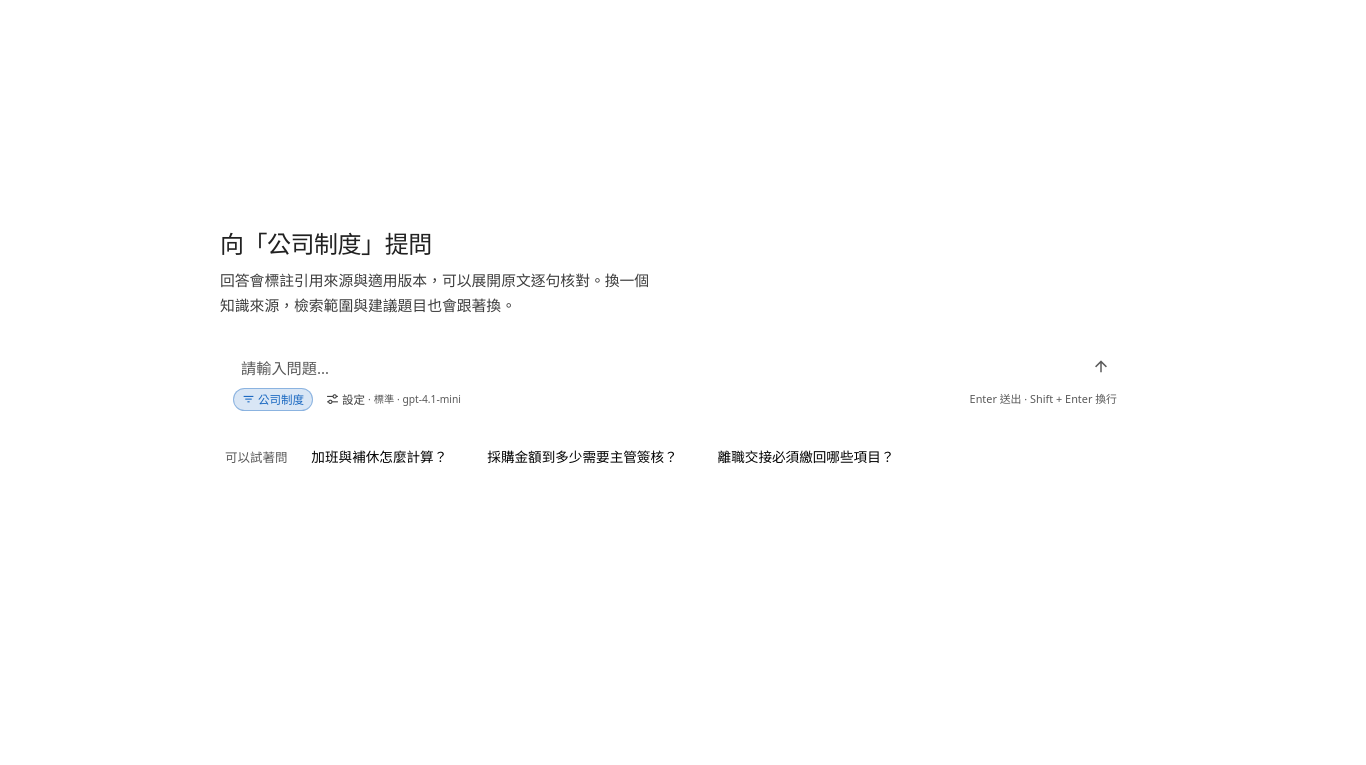
Test: AskView knowledge source dialog › should reject an empty notebook name instead of creating one
The width and height of the screenshot is (1366, 765).
What coordinates should you click on to do the following:
click the button with id "knowledge-source-trigger"
I would click on:
 (273, 400)
Its box is [233,388,313,411].
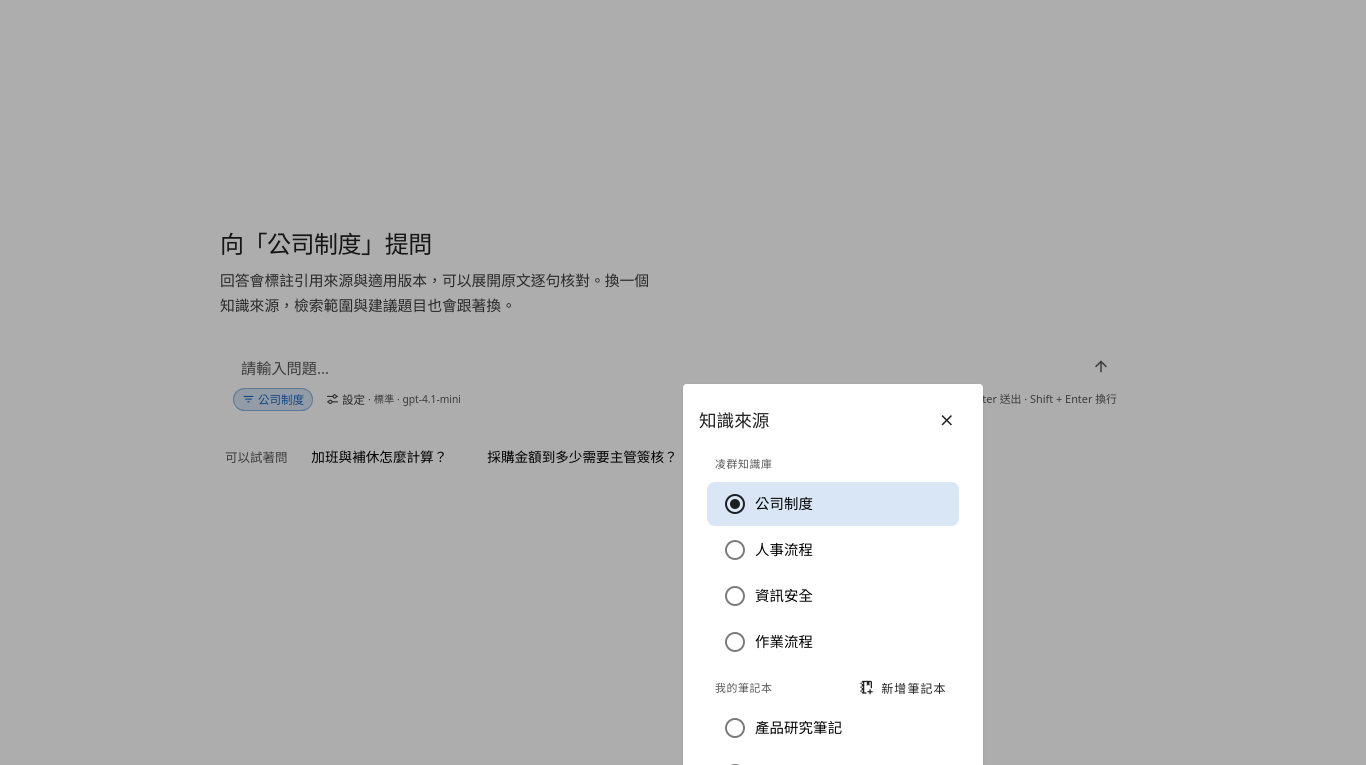
What coordinates should you click on to do the following:
click the button with test id "open-create-notebook-form"
I would click on:
 (904, 688)
Its box is [850,678,959,698].
(page scrolled)
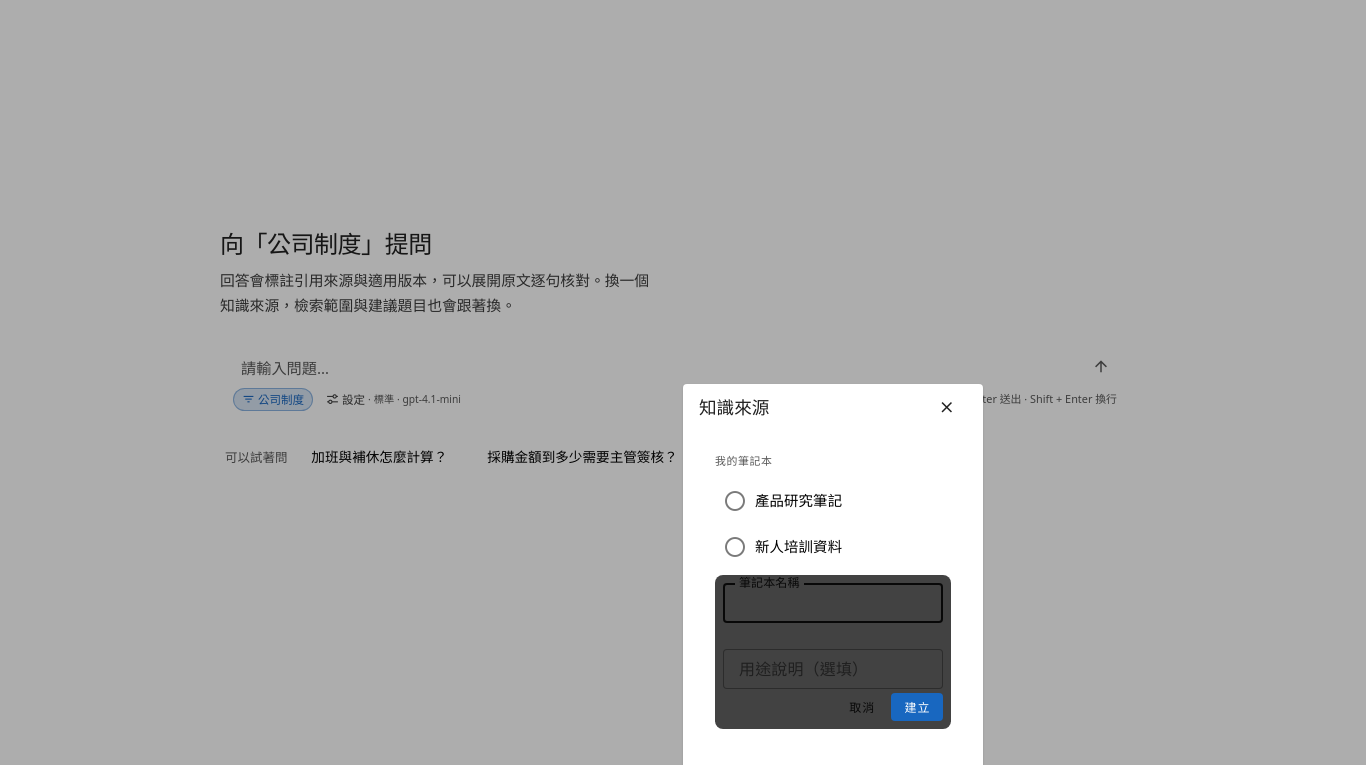
What coordinates should you click on to do the following:
click the button with test id "submit-create-notebook"
I would click on:
 (917, 707)
Its box is [891,693,943,721].
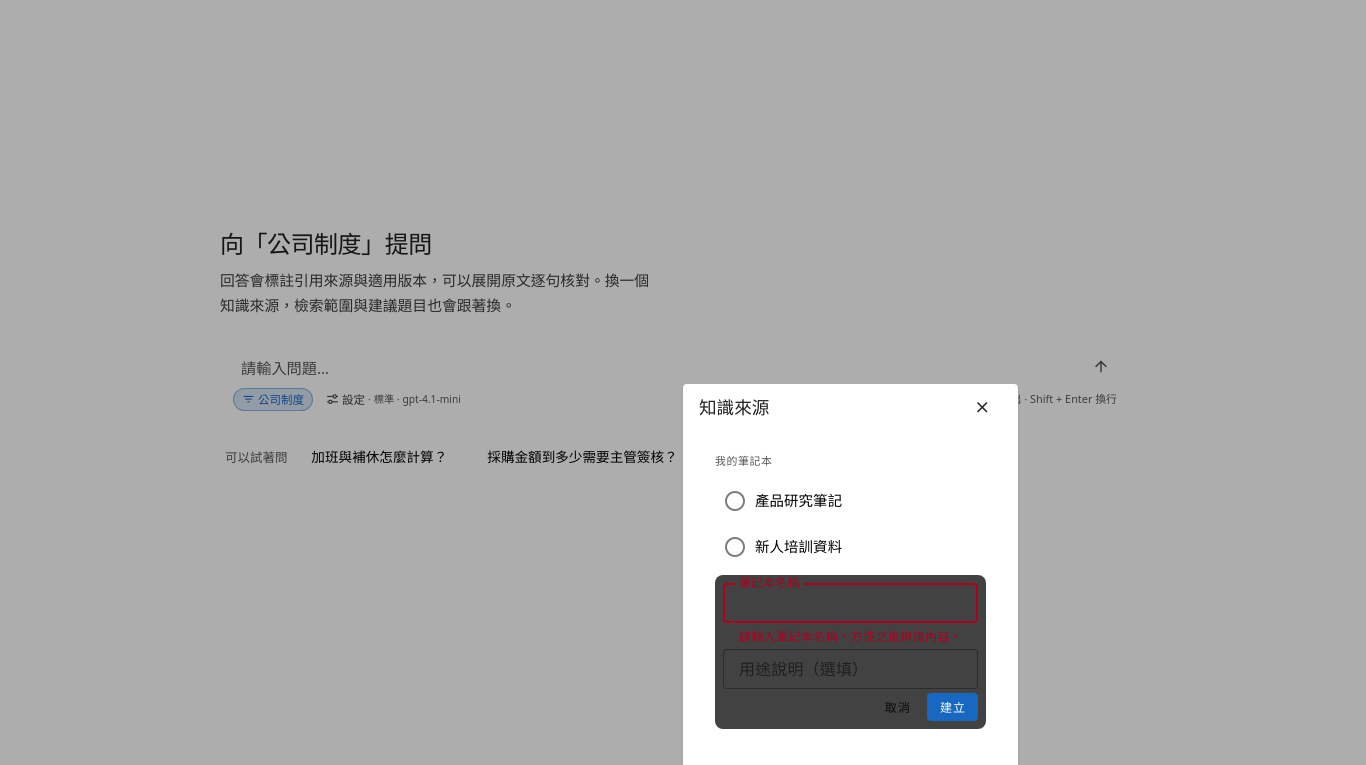
expect the element with id "knowledge-source-dialog" shows "請輸入筆記本名稱": met, box [739,628,962,645]
